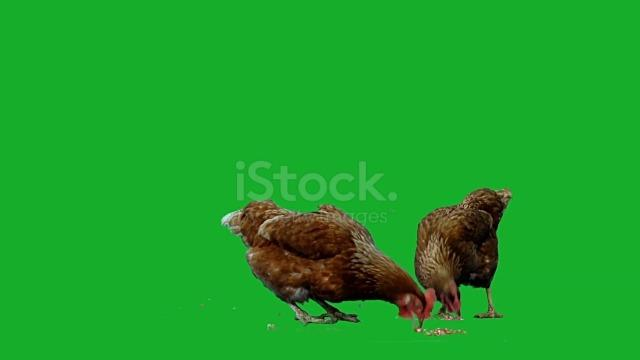Normal: (226, 195, 436, 330)
